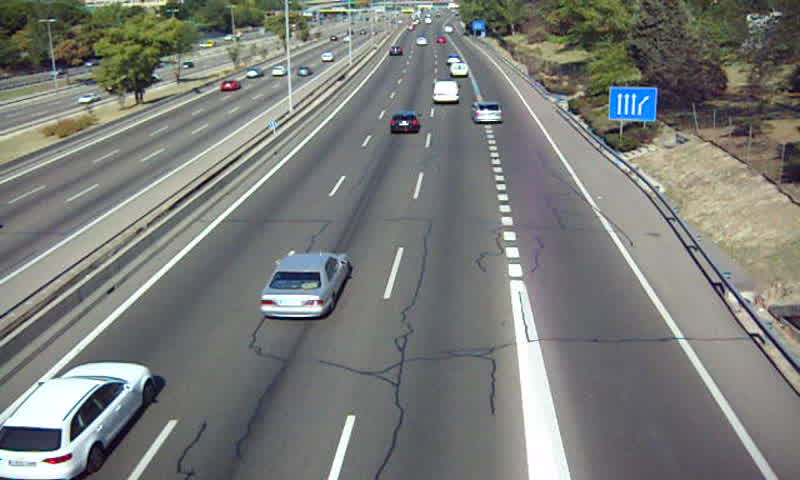car: (1, 362, 155, 480), (260, 250, 351, 320), (473, 101, 504, 125), (388, 112, 421, 134)
van: (433, 80, 460, 104), (451, 61, 468, 78)
